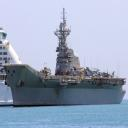Portanaves: (2, 8, 128, 109)
